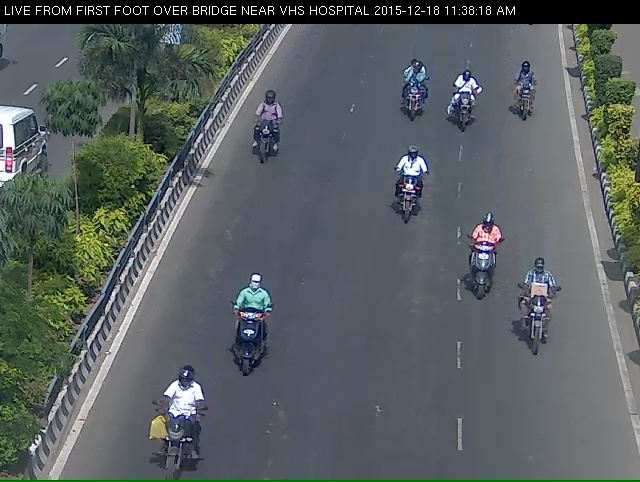Person: (137, 385, 198, 479), (511, 284, 558, 383), (457, 237, 504, 317), (225, 309, 264, 400), (247, 106, 285, 182), (390, 159, 425, 234), (396, 65, 432, 118), (520, 61, 543, 131), (453, 82, 479, 140)
